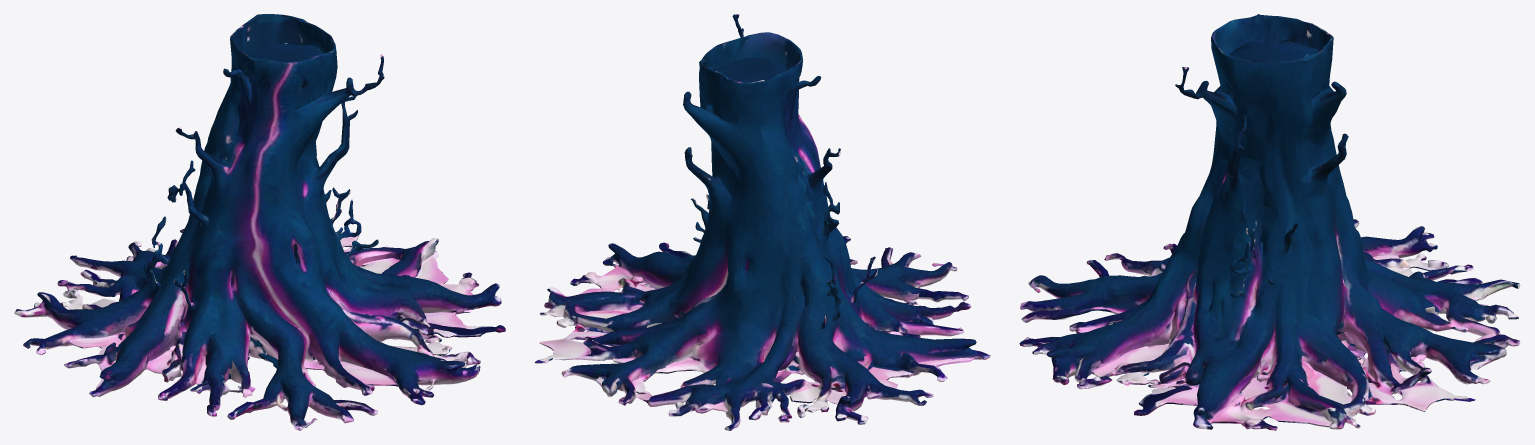
Rendered from sea-root-north-generated-2026-05-17T19-28-31-825Z.medium.glb.
The picture shows the model from 3 angles, left to right: view 1: azimuth 30°, elevation 25°; view 2: azimuth 150°, elevation 25°; view 3: azimuth 270°, elevation 25°; orthographic projection. The views are drawn at different scales.
Parts seen in each view (by area): view 1: temp_mesh.ply; view 2: temp_mesh.ply; view 3: temp_mesh.ply.
Boxes of the visible parts, left/top/right/bottom form: temp_mesh.ply: left=14, top=14, right=505, bottom=430; temp_mesh.ply: left=535, top=14, right=990, bottom=430; temp_mesh.ply: left=1019, top=14, right=1520, bottom=430.
Bounding box in the file's own units: 1.96 × 1.35 × 1.97.
Materials: 1 (1 with a texture image).
